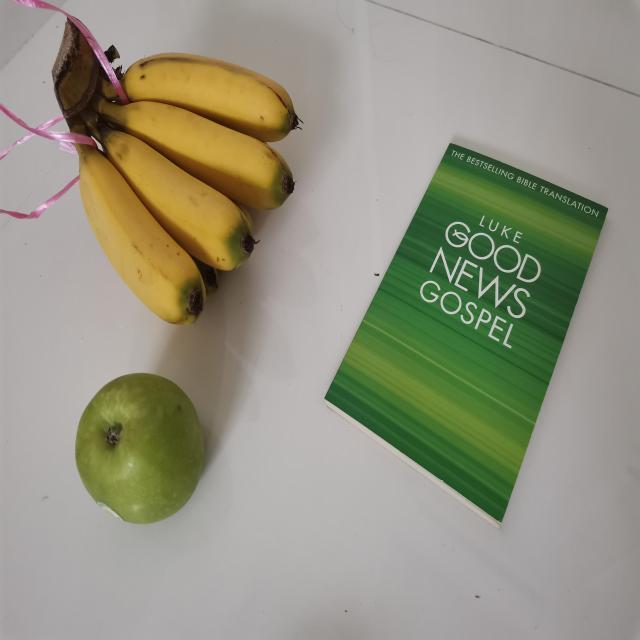Apple: (74, 372, 210, 526)
Banana: (50, 15, 302, 331)
Book: (321, 141, 611, 529)
